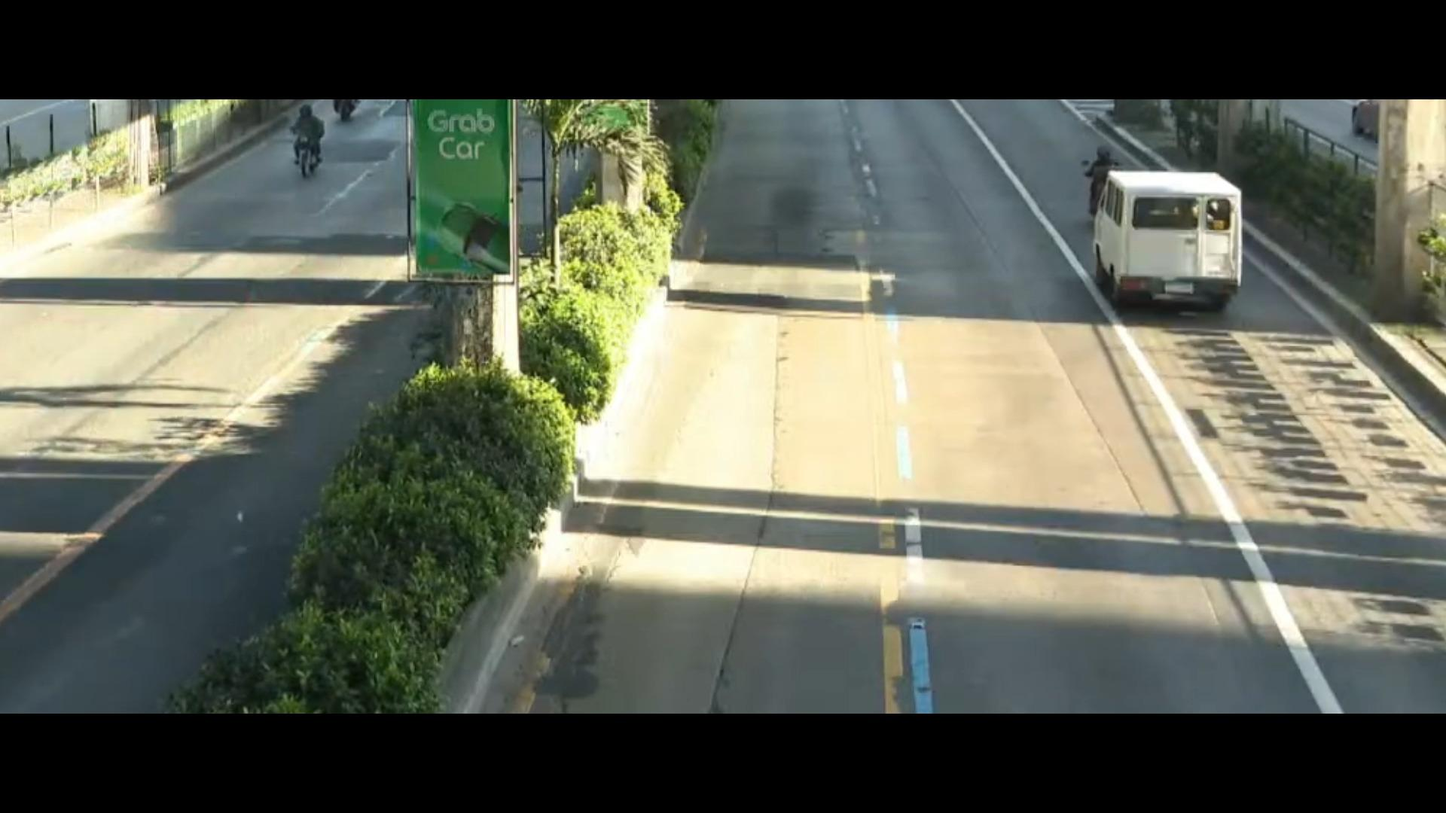Motorcycle: (268, 96, 343, 184), (1055, 138, 1121, 220)
Multicab: (1052, 140, 1298, 336)
